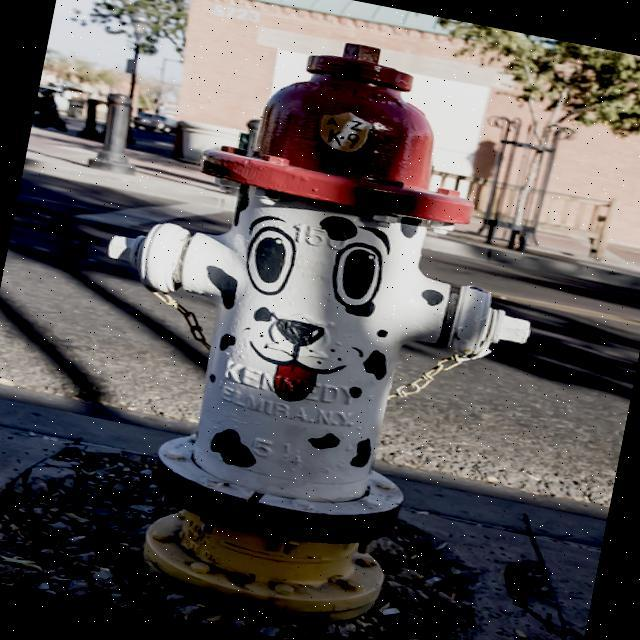fire_hydrant: (47, 4, 587, 640)
